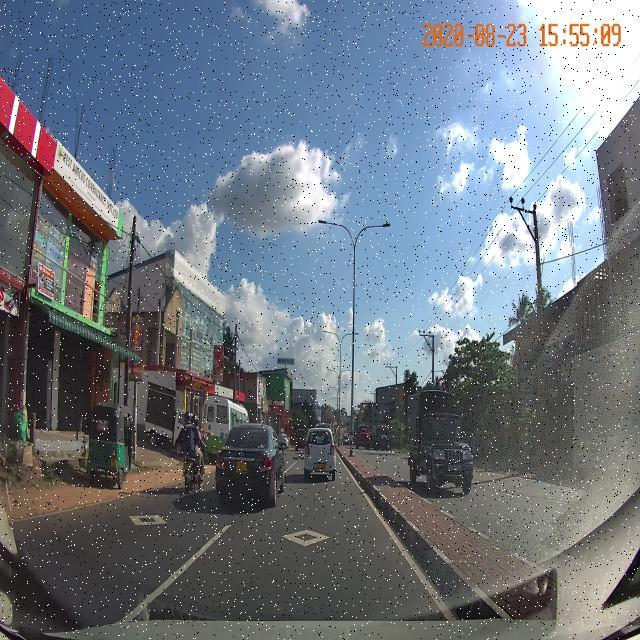diamond: (191, 525, 413, 559)
